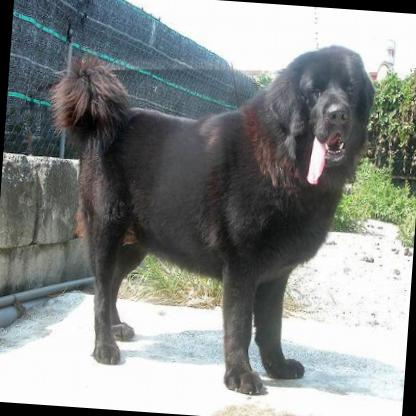Tibetan_mastiff: (24, 23, 379, 402)
